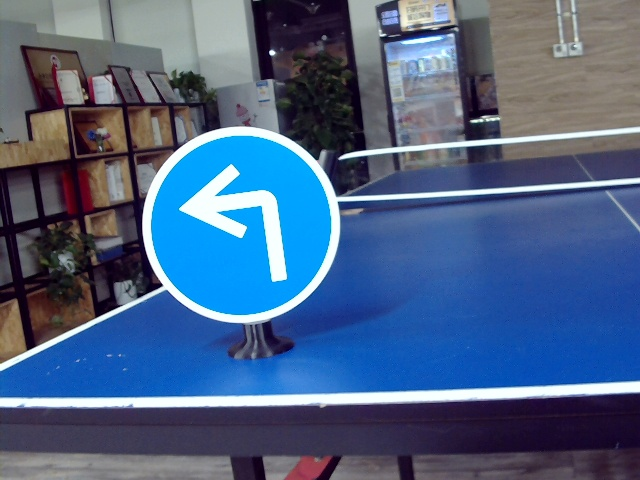turn_left: (183, 164, 292, 291)
